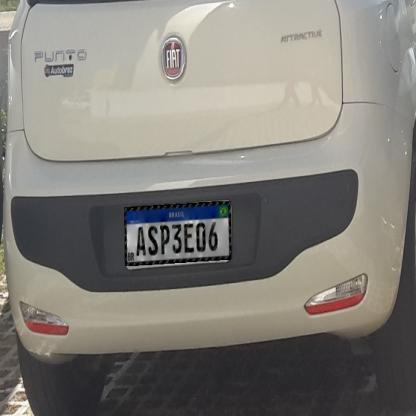PlacaM: (124, 201, 232, 266)
